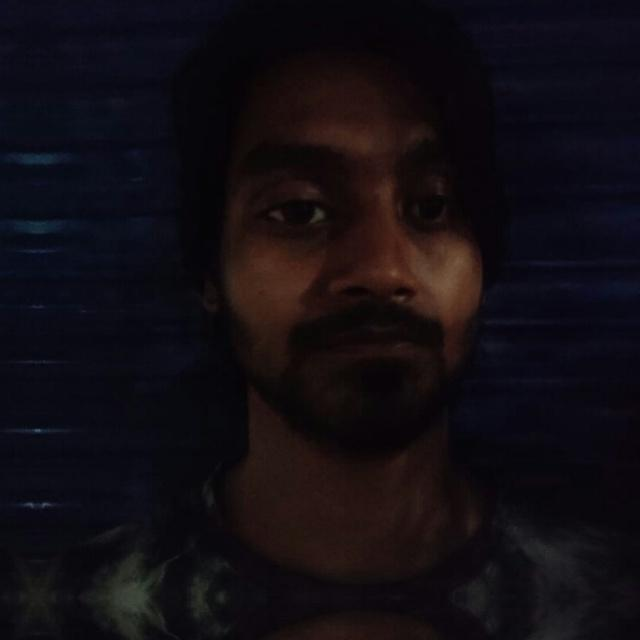Natural: (149, 62, 554, 499)
